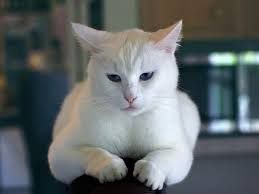cat: (41, 13, 207, 193)
